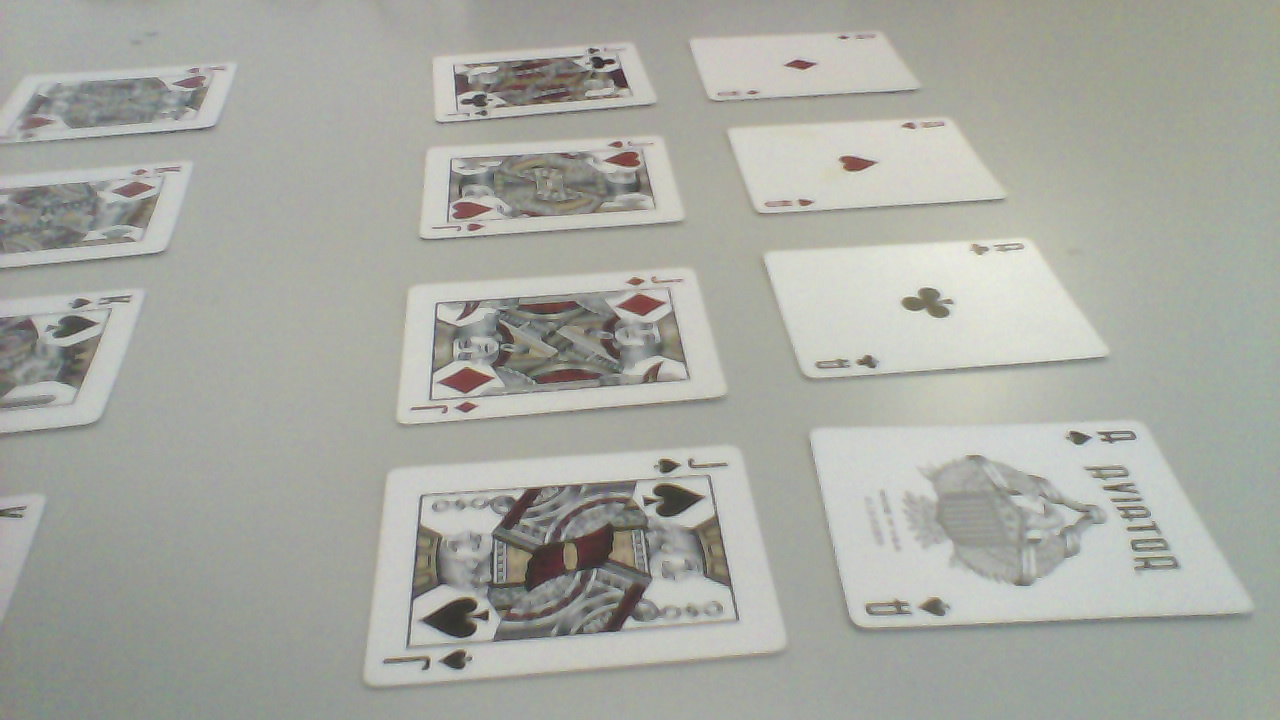ace_clubs: (756, 241, 1116, 384)
ace_diamonds: (693, 35, 927, 109)
ace_hearts: (724, 121, 1014, 221)
ace_spades: (807, 428, 1262, 635)
jack_clubs: (430, 43, 663, 130)
jack_diamonds: (407, 269, 730, 428)
jack_hearts: (417, 140, 688, 246)
jack_spades: (368, 449, 786, 688)
